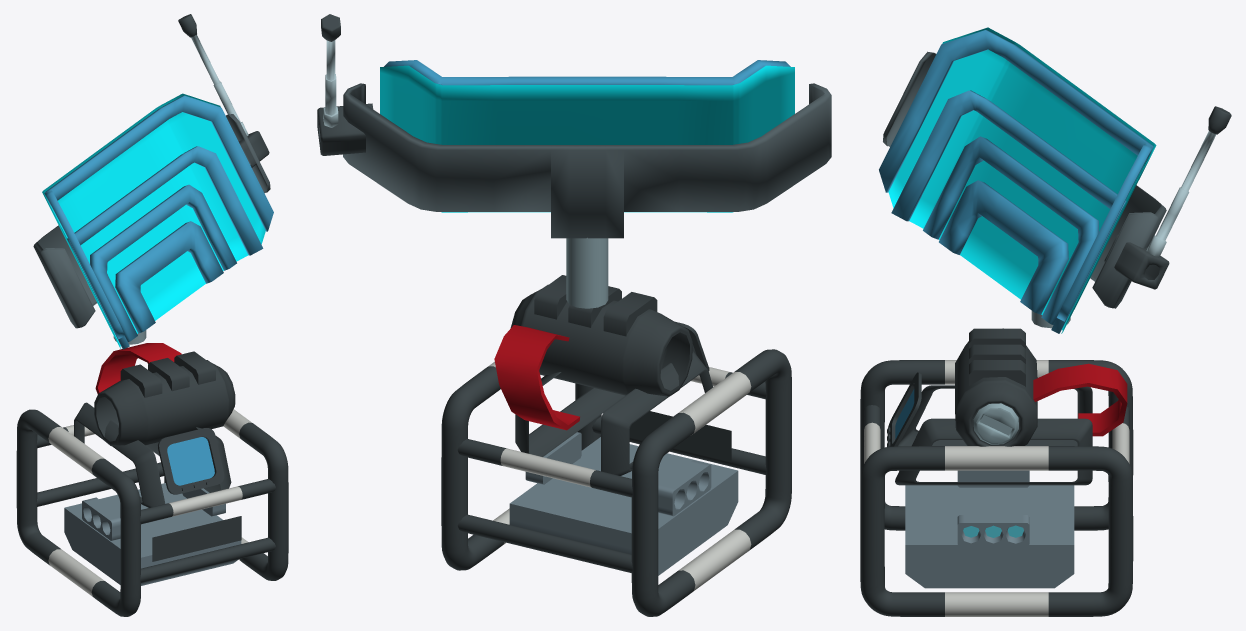
Rendered from fant_robotDetector_2.obj.
The picture shows the model from 3 angles, left to right: view 1: azimuth 30°, elevation 25°; view 2: azimuth 150°, elevation 25°; view 3: azimuth 270°, elevation 25°; orthographic projection. The views are drawn at different scales.
Parts seen in each view (by area): view 1: fant_robotdetector_Circle; view 2: fant_robotdetector_Circle; view 3: fant_robotdetector_Circle.
Part boxes in pixels (left/top/right/bottom): fant_robotdetector_Circle: left=16, top=14, right=288, bottom=616; fant_robotdetector_Circle: left=317, top=14, right=831, bottom=616; fant_robotdetector_Circle: left=860, top=27, right=1231, bottom=616.
Size of the model in its own units: 4.77 by 6.55 by 4.08.
